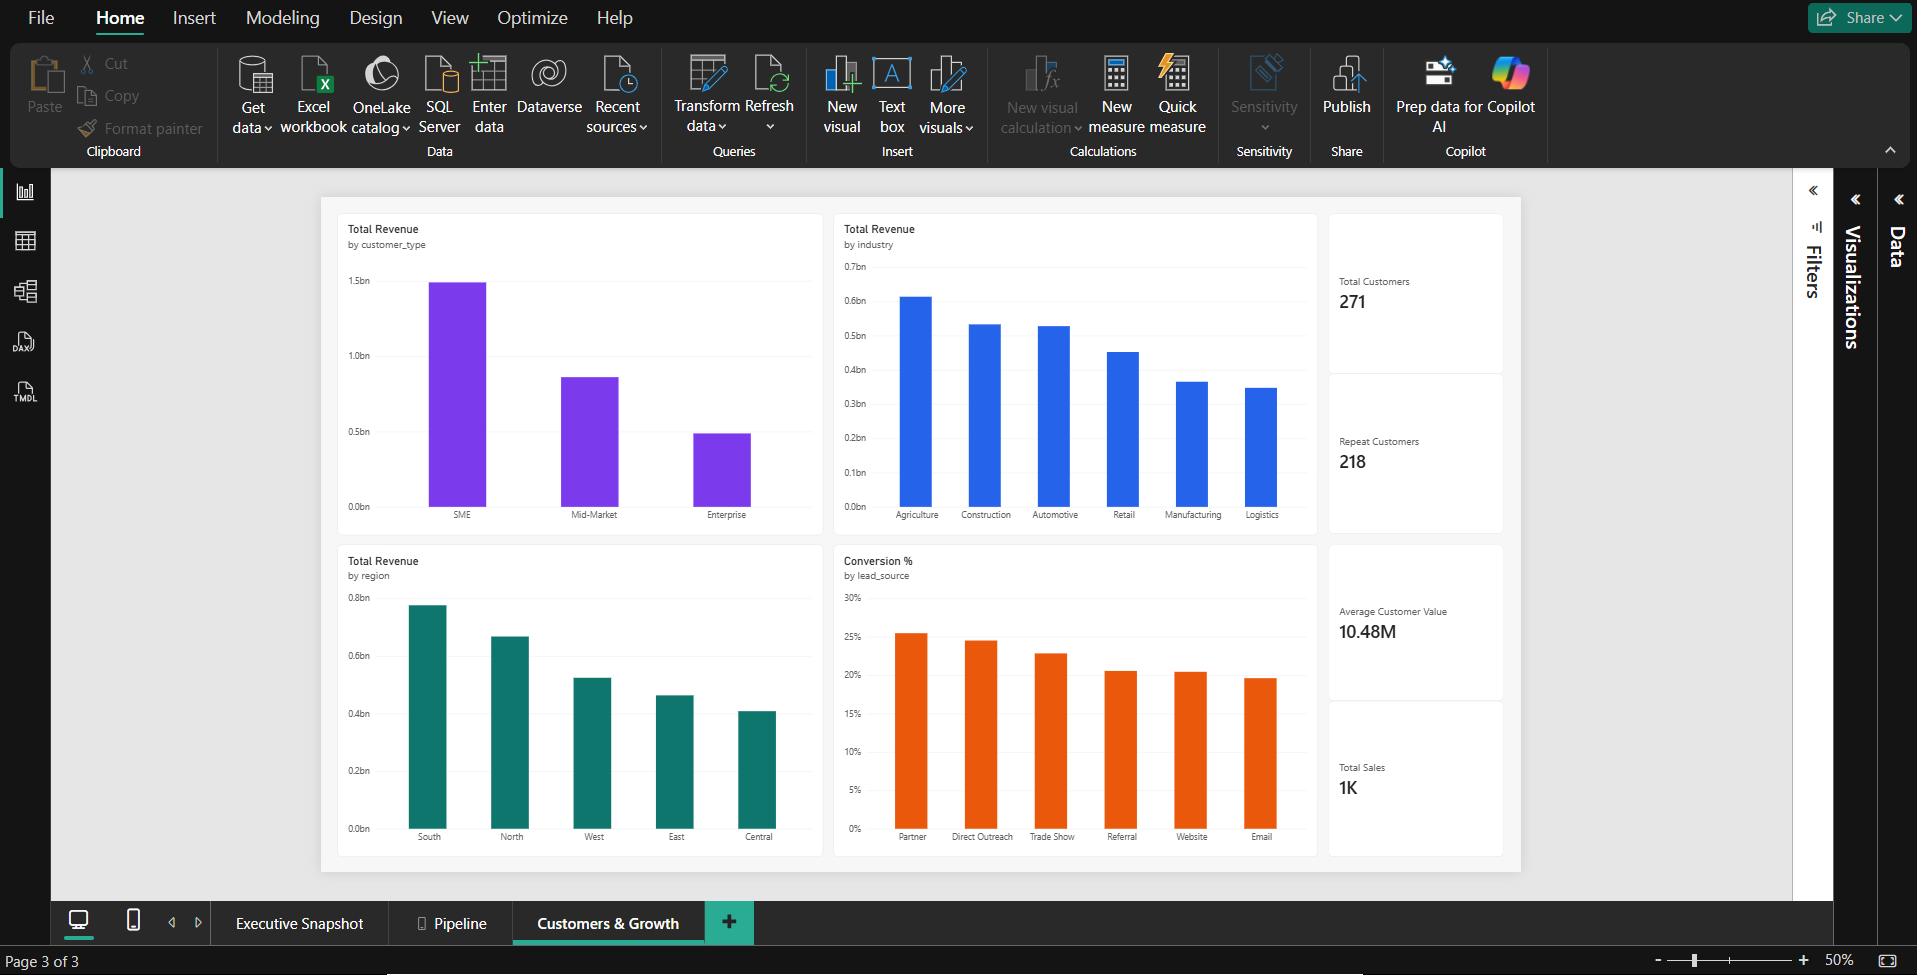

Layout of this report page (visuals, bound fields, positions):
{"tool":"powerbi","page":{"name":"Customers & Growth","canvas":[1920,1080],"ordinal":2},"visuals":[{"type":"clusteredColumnChart","fields":{"Category":["dim_customer.customer_type"],"Y":["fact_sales.Total Revenue"]},"box":[25,25,777.5,515],"z":0},{"type":"clusteredColumnChart","fields":{"Category":["dim_customer.industry"],"Y":["fact_sales.Total Revenue"]},"box":[820,25,775,515],"z":1000},{"type":"clusteredColumnChart","fields":{"Category":["dim_customer.region"],"Y":["fact_sales.Total Revenue"]},"box":[25,555,777.5,500],"z":2000},{"type":"clusteredColumnChart","fields":{"Category":["fact_opportunities.lead_source"],"Y":["fact_opportunities.Conversion %"]},"box":[820,555,775,500],"z":3000},{"type":"cardVisual","fields":{"Data":["dim_customer.Total Customers"]},"box":[1612.5,25,280,257.5],"z":4000},{"type":"cardVisual","fields":{"Data":["dim_customer.Repeat Customers"]},"box":[1612.5,282.5,280,257.5],"z":5000},{"type":"cardVisual","fields":{"Data":["dim_customer.Average Customer Value"]},"box":[1612.5,555,280,250],"z":6000},{"type":"cardVisual","fields":{"Data":["dim_customer.Total Sales"]},"box":[1612.5,805,280,250],"z":7000}]}

Visuals, with their boxes on the page's 1920x1080 design canvas (x1, y1, x2, y2). These are canvas units, not pixel positions in the 1917x975 screenshot, which may show the page scaled, cropped or inside an application window:
clusteredColumnChart - dim_customer.customer_type x fact_sales.Total Revenue: 25,25,802,540
clusteredColumnChart - dim_customer.industry x fact_sales.Total Revenue: 820,25,1595,540
clusteredColumnChart - dim_customer.region x fact_sales.Total Revenue: 25,555,802,1055
clusteredColumnChart - fact_opportunities.lead_source x fact_opportunities.Conversion %: 820,555,1595,1055
cardVisual - dim_customer.Total Customers: 1612,25,1892,282
cardVisual - dim_customer.Repeat Customers: 1612,282,1892,540
cardVisual - dim_customer.Average Customer Value: 1612,555,1892,805
cardVisual - dim_customer.Total Sales: 1612,805,1892,1055
